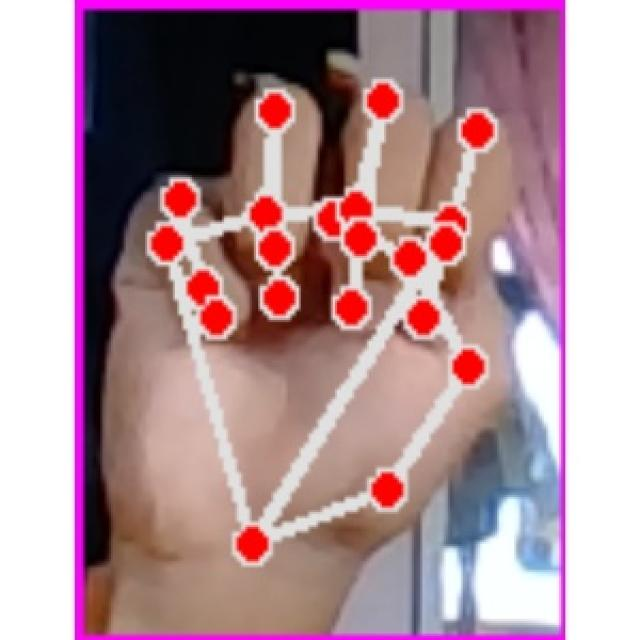M: (96, 56, 528, 594)
